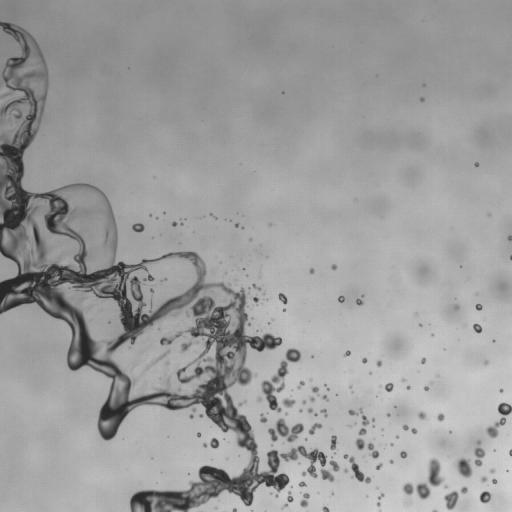droplet: (267, 418, 303, 442), (452, 457, 473, 478), (443, 490, 459, 510), (299, 491, 310, 507), (479, 491, 492, 503), (378, 382, 393, 392), (330, 435, 339, 450), (8, 15, 19, 26), (42, 100, 53, 111), (20, 151, 31, 162), (19, 178, 30, 189), (116, 221, 127, 232), (6, 267, 17, 278), (239, 277, 250, 288), (471, 311, 482, 322), (243, 326, 254, 337), (274, 345, 285, 356), (350, 351, 361, 362), (249, 377, 260, 388), (411, 382, 422, 393), (226, 384, 237, 395), (300, 385, 311, 396), (291, 390, 302, 401), (312, 398, 323, 409), (134, 403, 145, 414), (125, 409, 136, 420), (425, 409, 436, 420), (267, 410, 278, 421), (123, 412, 134, 423), (246, 414, 257, 425), (120, 416, 131, 427), (408, 416, 419, 427), (210, 425, 221, 436), (249, 425, 260, 436), (227, 429, 238, 440), (252, 432, 263, 443), (481, 435, 492, 446), (276, 442, 287, 453), (319, 442, 330, 453), (347, 445, 358, 456), (239, 447, 250, 458), (256, 448, 267, 459), (464, 451, 475, 462), (239, 456, 250, 467), (299, 456, 310, 467), (338, 458, 349, 469), (257, 461, 268, 472), (448, 465, 459, 476), (227, 467, 238, 478), (418, 472, 429, 483), (287, 474, 298, 485), (455, 474, 466, 485), (157, 481, 168, 492), (168, 481, 179, 492), (177, 481, 188, 492), (219, 488, 230, 499), (230, 493, 241, 504), (355, 438, 365, 450), (132, 223, 144, 232), (278, 292, 287, 304), (210, 437, 219, 449), (130, 359, 138, 372), (473, 323, 482, 333), (13, 48, 22, 57), (6, 108, 15, 117), (202, 274, 211, 283), (345, 295, 354, 304), (366, 359, 375, 368), (274, 392, 283, 401), (196, 403, 205, 412), (180, 407, 189, 416), (91, 408, 100, 417), (315, 414, 324, 423), (285, 419, 294, 428), (481, 432, 490, 441), (361, 433, 370, 442), (291, 438, 300, 447), (323, 448, 332, 457), (212, 460, 221, 469), (303, 473, 312, 482), (140, 482, 149, 491), (293, 493, 302, 502), (259, 413, 267, 423), (297, 380, 305, 389), (417, 411, 426, 419), (436, 412, 444, 421), (158, 277, 168, 284), (238, 505, 249, 511), (292, 505, 303, 511), (320, 408, 327, 417), (400, 450, 407, 458), (480, 475, 487, 483), (460, 486, 467, 494), (0, 56, 5, 67), (0, 81, 5, 92), (0, 271, 5, 282), (99, 315, 105, 324), (298, 481, 307, 487), (232, 278, 239, 285), (356, 298, 363, 305), (343, 350, 350, 357), (308, 395, 315, 402), (375, 462, 382, 469), (6, 33, 13, 40), (47, 73, 54, 80), (17, 90, 24, 97), (181, 245, 188, 252), (196, 249, 203, 256), (204, 264, 211, 271), (213, 276, 220, 283), (232, 285, 239, 292), (250, 288, 257, 295), (245, 297, 252, 304), (30, 301, 37, 308), (19, 302, 26, 309), (242, 305, 249, 312), (9, 306, 16, 313), (57, 318, 64, 325), (257, 331, 264, 338), (262, 346, 269, 353), (286, 360, 293, 367), (243, 361, 250, 368), (80, 364, 87, 371), (270, 368, 277, 375), (242, 383, 249, 390), (225, 386, 232, 393), (318, 387, 325, 394), (326, 391, 333, 398), (98, 397, 105, 404), (262, 399, 269, 406), (276, 399, 283, 406), (305, 400, 312, 407), (292, 402, 299, 409), (312, 405, 319, 412), (161, 406, 168, 413), (184, 406, 191, 413), (236, 407, 243, 414), (166, 408, 173, 415), (277, 411, 284, 418), (495, 412, 502, 419), (355, 415, 362, 422), (205, 417, 212, 424), (269, 421, 276, 428), (302, 424, 309, 431), (496, 425, 503, 432), (301, 428, 308, 435), (297, 431, 304, 438), (94, 432, 101, 439), (109, 436, 116, 443), (296, 453, 303, 460), (372, 457, 379, 464), (208, 460, 215, 467), (313, 460, 320, 467), (382, 461, 389, 468), (468, 461, 475, 468), (345, 462, 352, 469), (437, 470, 444, 477), (486, 473, 493, 480), (193, 475, 200, 482), (398, 479, 405, 486), (283, 484, 290, 491), (300, 486, 307, 493), (444, 487, 451, 494), (398, 489, 405, 496), (411, 489, 418, 496), (457, 492, 464, 499), (208, 496, 215, 503), (338, 295, 344, 303), (506, 412, 511, 421), (187, 506, 196, 511), (297, 506, 306, 511), (439, 506, 448, 511), (475, 304, 482, 310), (420, 357, 426, 364), (376, 360, 382, 367), (402, 424, 409, 430), (411, 427, 417, 434), (322, 505, 329, 511), (331, 264, 337, 270), (361, 357, 367, 363), (483, 359, 489, 365), (256, 396, 262, 402), (491, 478, 497, 484), (0, 98, 4, 107), (309, 267, 314, 274), (443, 484, 450, 489), (171, 221, 177, 226), (400, 377, 406, 382), (424, 385, 429, 391), (489, 468, 495, 473), (124, 507, 131, 511), (172, 507, 179, 511), (282, 507, 289, 511), (449, 507, 456, 511), (474, 162, 479, 167), (234, 222, 239, 227), (454, 304, 459, 309), (196, 432, 201, 437), (202, 442, 207, 447), (343, 468, 348, 473), (1, 17, 6, 22), (28, 29, 33, 34), (35, 38, 40, 43), (40, 48, 45, 53), (42, 53, 47, 58), (44, 58, 49, 63), (45, 61, 50, 66), (47, 70, 52, 75), (5, 87, 10, 92), (45, 94, 50, 99), (44, 98, 49, 103), (42, 108, 47, 113), (12, 109, 17, 114), (10, 116, 15, 121), (71, 178, 76, 183), (78, 178, 83, 183), (82, 178, 87, 183), (63, 180, 68, 185), (89, 180, 94, 185), (94, 182, 99, 187), (98, 185, 103, 190), (39, 188, 44, 193), (106, 194, 111, 199), (112, 209, 117, 214), (158, 213, 163, 218), (114, 217, 119, 222), (134, 218, 139, 223), (167, 219, 172, 224), (229, 221, 234, 226), (175, 223, 180, 228), (143, 224, 148, 229), (135, 231, 140, 236), (116, 232, 121, 237), (502, 235, 507, 240), (116, 240, 121, 245), (170, 247, 175, 252), (162, 249, 167, 254), (156, 252, 161, 257), (145, 254, 150, 259), (5, 257, 10, 262), (136, 258, 141, 263), (123, 259, 128, 264), (331, 259, 336, 264), (326, 263, 331, 268), (244, 268, 249, 273), (313, 268, 318, 273), (328, 268, 333, 273), (243, 288, 248, 293), (284, 292, 289, 297), (343, 294, 348, 299), (278, 300, 283, 305), (38, 307, 43, 312), (45, 313, 50, 318), (246, 313, 251, 318), (246, 316, 251, 321), (479, 322, 484, 327), (66, 326, 71, 331), (480, 329, 485, 334), (272, 332, 277, 337), (65, 341, 70, 346), (64, 344, 69, 349), (292, 344, 297, 349), (299, 354, 304, 359), (375, 355, 380, 360), (416, 356, 421, 361), (62, 360, 67, 365), (380, 360, 385, 365), (275, 363, 280, 368), (64, 365, 69, 370), (378, 365, 383, 370), (283, 373, 288, 378), (266, 376, 271, 381), (107, 377, 112, 382), (303, 378, 308, 383), (381, 380, 386, 385), (311, 381, 316, 386), (402, 381, 407, 386), (380, 386, 385, 391), (391, 386, 396, 391), (382, 389, 387, 394), (271, 390, 276, 395), (388, 390, 393, 395), (311, 392, 316, 397), (261, 393, 266, 398), (232, 401, 237, 406), (493, 403, 498, 408), (302, 407, 307, 412), (353, 407, 358, 412), (493, 407, 498, 412), (422, 408, 427, 413), (433, 411, 438, 416), (318, 412, 323, 417), (202, 413, 207, 418), (443, 414, 448, 419), (366, 415, 371, 420), (432, 415, 437, 420), (489, 421, 494, 426), (211, 422, 216, 427), (358, 423, 363, 428), (363, 424, 368, 429), (407, 424, 412, 429), (313, 427, 318, 432), (406, 428, 411, 433), (266, 433, 271, 438), (306, 433, 311, 438), (216, 436, 221, 441), (335, 437, 340, 442), (391, 437, 396, 442), (205, 439, 210, 444), (326, 440, 331, 445), (334, 442, 339, 447), (472, 443, 477, 448), (479, 443, 484, 448), (206, 444, 211, 449), (352, 444, 357, 449), (362, 444, 367, 449), (372, 445, 377, 450), (266, 446, 271, 451), (305, 448, 310, 453), (377, 449, 382, 454), (278, 456, 283, 461), (325, 456, 330, 461), (332, 456, 337, 461), (479, 456, 484, 461), (288, 458, 293, 463), (353, 458, 358, 463), (349, 470, 354, 475), (352, 476, 357, 481), (370, 477, 375, 482), (324, 478, 329, 483), (486, 478, 491, 483), (360, 480, 365, 485), (260, 481, 265, 486), (438, 482, 443, 487), (185, 484, 190, 489), (268, 485, 273, 490), (482, 486, 487, 491), (466, 487, 471, 492), (477, 489, 482, 494), (252, 490, 257, 495), (290, 492, 295, 497), (424, 496, 429, 501), (305, 497, 310, 502), (251, 498, 256, 503), (441, 499, 446, 504), (484, 501, 489, 506), (379, 503, 384, 508), (247, 504, 252, 509), (373, 505, 378, 510), (507, 235, 511, 241), (0, 127, 3, 134), (0, 216, 3, 223), (420, 97, 424, 102), (406, 385, 410, 390), (499, 388, 503, 393), (302, 399, 306, 404), (198, 413, 203, 417), (309, 377, 312, 383), (268, 223, 272, 227), (248, 237, 252, 241), (418, 323, 422, 327), (310, 354, 314, 358), (298, 408, 302, 412), (386, 413, 390, 417), (389, 459, 393, 463), (330, 491, 334, 495), (232, 508, 237, 511), (508, 240, 511, 245), (508, 400, 511, 405), (508, 411, 511, 416), (508, 468, 511, 473), (318, 508, 323, 511), (328, 508, 333, 511), (487, 213, 491, 216), (282, 308, 286, 311), (414, 312, 417, 316), (430, 333, 434, 336), (429, 381, 433, 384), (284, 412, 288, 415), (395, 435, 399, 438), (304, 437, 307, 441), (371, 437, 375, 440), (225, 457, 229, 460), (187, 471, 190, 475), (0, 25, 2, 30), (0, 67, 2, 72), (0, 140, 2, 145), (0, 252, 2, 257), (422, 83, 425, 86), (281, 91, 284, 94), (162, 211, 165, 214), (155, 216, 158, 219), (241, 226, 244, 229), (459, 265, 462, 268), (242, 267, 245, 270), (224, 271, 227, 274), (361, 294, 364, 297), (260, 302, 263, 305), (255, 329, 258, 332), (492, 339, 495, 342), (369, 371, 372, 374), (436, 374, 439, 377), (335, 393, 338, 396), (393, 405, 396, 408), (390, 443, 393, 446), (270, 444, 273, 447), (376, 486, 379, 489), (214, 506, 217, 509), (279, 88, 282, 91), (284, 90, 287, 93), (280, 93, 283, 96), (421, 94, 424, 97), (8, 99, 11, 102), (417, 99, 420, 102), (472, 160, 475, 163), (478, 163, 481, 166), (471, 164, 474, 167), (475, 166, 478, 169), (58, 184, 61, 187), (104, 192, 107, 195), (160, 209, 163, 212), (165, 211, 168, 214), (145, 212, 148, 215), (212, 212, 215, 215), (151, 214, 154, 217), (181, 215, 184, 218), (209, 215, 212, 218), (226, 217, 229, 220), (216, 218, 219, 221), (155, 219, 158, 222), (181, 219, 184, 222), (233, 220, 236, 223), (141, 221, 144, 224), (237, 224, 240, 227), (241, 228, 244, 231), (506, 256, 509, 259), (461, 263, 464, 266), (242, 264, 245, 267), (456, 264, 459, 267), (335, 267, 338, 270), (459, 267, 462, 270), (242, 269, 245, 272), (306, 269, 309, 272), (310, 273, 313, 276), (255, 283, 258, 286), (249, 284, 252, 287), (275, 294, 278, 297), (263, 295, 266, 298), (335, 295, 338, 298), (286, 297, 289, 300), (353, 297, 356, 300), (360, 297, 363, 300), (257, 299, 260, 302), (263, 300, 266, 303), (476, 300, 479, 303), (337, 301, 340, 304), (341, 301, 344, 304), (353, 301, 356, 304), (356, 304, 359, 307), (472, 305, 475, 308), (481, 306, 484, 309), (285, 308, 288, 311), (478, 309, 481, 312), (282, 311, 285, 314), (267, 318, 270, 321), (419, 320, 422, 323), (474, 320, 477, 323), (417, 325, 420, 328), (472, 329, 475, 332), (427, 332, 430, 335), (433, 332, 436, 335), (432, 335, 435, 338), (492, 336, 495, 339), (281, 338, 284, 341), (489, 338, 492, 341), (493, 341, 496, 344), (349, 349, 352, 352), (342, 350, 345, 353), (310, 351, 313, 354), (349, 353, 352, 356), (422, 354, 425, 357), (313, 355, 316, 358), (345, 355, 348, 358), (481, 359, 484, 362), (359, 360, 362, 363), (424, 360, 427, 363), (365, 361, 368, 364), (421, 363, 424, 366), (371, 371, 374, 374), (368, 374, 371, 377), (403, 375, 406, 378), (324, 380, 327, 383), (296, 381, 299, 384), (326, 384, 329, 387), (345, 384, 348, 387), (427, 384, 430, 387), (499, 385, 502, 388), (351, 386, 354, 389), (409, 386, 412, 389), (496, 387, 499, 390), (421, 388, 424, 391), (427, 388, 430, 391), (406, 389, 409, 392), (502, 389, 505, 392), (335, 390, 338, 393), (424, 390, 427, 393), (372, 394, 375, 397), (335, 395, 338, 398), (392, 402, 395, 405), (320, 406, 323, 409), (392, 407, 395, 410), (325, 410, 328, 413), (385, 410, 388, 413), (311, 411, 314, 414), (346, 412, 349, 415), (363, 412, 366, 415), (389, 412, 392, 415), (384, 415, 387, 418), (387, 416, 390, 419), (374, 418, 377, 421), (372, 421, 375, 424), (414, 426, 417, 429), (383, 427, 386, 430), (451, 429, 454, 432), (381, 430, 384, 433), (445, 430, 448, 433), (193, 432, 196, 435), (332, 432, 335, 435), (200, 433, 203, 436), (392, 434, 395, 437), (194, 435, 197, 438), (386, 442, 389, 445), (201, 446, 204, 449), (211, 447, 214, 450), (332, 448, 335, 451), (403, 448, 406, 451), (495, 448, 498, 451), (343, 451, 346, 454), (492, 451, 495, 454), (506, 452, 509, 455), (397, 454, 400, 457), (369, 455, 372, 458), (400, 457, 403, 460), (403, 457, 406, 460), (389, 463, 392, 466), (506, 466, 509, 469), (503, 467, 506, 470), (375, 469, 378, 472), (505, 471, 508, 474), (184, 472, 187, 475), (496, 479, 499, 482), (328, 490, 331, 493), (381, 490, 384, 493), (333, 491, 336, 494), (377, 492, 380, 495), (330, 495, 333, 498), (375, 498, 378, 501), (287, 501, 290, 504), (373, 502, 376, 505), (283, 506, 286, 509), (327, 506, 330, 509), (149, 213, 151, 217), (269, 492, 273, 494), (219, 261, 222, 263), (251, 317, 254, 319), (443, 348, 446, 350), (381, 428, 383, 431), (449, 430, 451, 433), (297, 462, 300, 464), (506, 469, 508, 472), (290, 485, 292, 488), (365, 495, 368, 497), (378, 509, 381, 511), (509, 232, 511, 235), (214, 509, 217, 511), (229, 509, 232, 511), (279, 509, 282, 511), (428, 509, 431, 511), (153, 176, 155, 178), (184, 218, 186, 220), (224, 218, 226, 220), (229, 219, 231, 221), (266, 256, 268, 258), (246, 274, 248, 276), (291, 389, 293, 391), (381, 434, 383, 436), (223, 438, 225, 440), (493, 449, 495, 451), (334, 452, 336, 454), (151, 457, 153, 459), (317, 492, 319, 494), (152, 236, 153, 238), (454, 298, 456, 299), (376, 395, 377, 397), (267, 412, 268, 414), (237, 455, 239, 456), (487, 484, 488, 486), (251, 510, 253, 511), (264, 510, 266, 511)
ligament: (260, 348, 301, 413), (485, 402, 511, 438), (343, 454, 371, 483), (348, 407, 369, 436), (473, 440, 485, 466), (310, 386, 329, 401), (281, 490, 293, 509), (367, 442, 379, 458), (308, 422, 322, 435), (376, 492, 385, 507), (307, 407, 317, 416), (252, 283, 261, 291), (209, 212, 217, 220), (347, 421, 356, 428), (348, 384, 353, 393), (267, 318, 274, 324), (324, 383, 329, 391), (371, 417, 375, 427), (179, 217, 183, 225), (509, 448, 511, 456), (384, 443, 386, 447), (510, 254, 511, 260)
